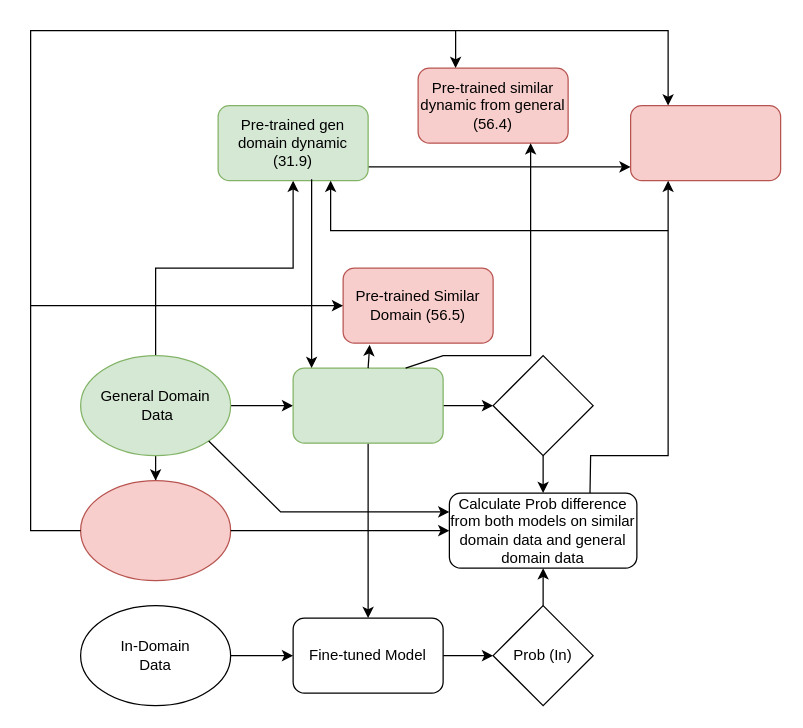
The diagram is 803 pixels wide and 728 high, and some of its shapes have lost their labels. Each missing label, with the box of its shape:
Pre-trained similar from dynamic with dynamic (55.8): (629, 104, 781, 181)
Pretrained Gen Domain Model (27.4): (292, 367, 443, 443)
Prob (Gen): (492, 354, 593, 456)
Similar Domain Data: (79, 479, 231, 581)
